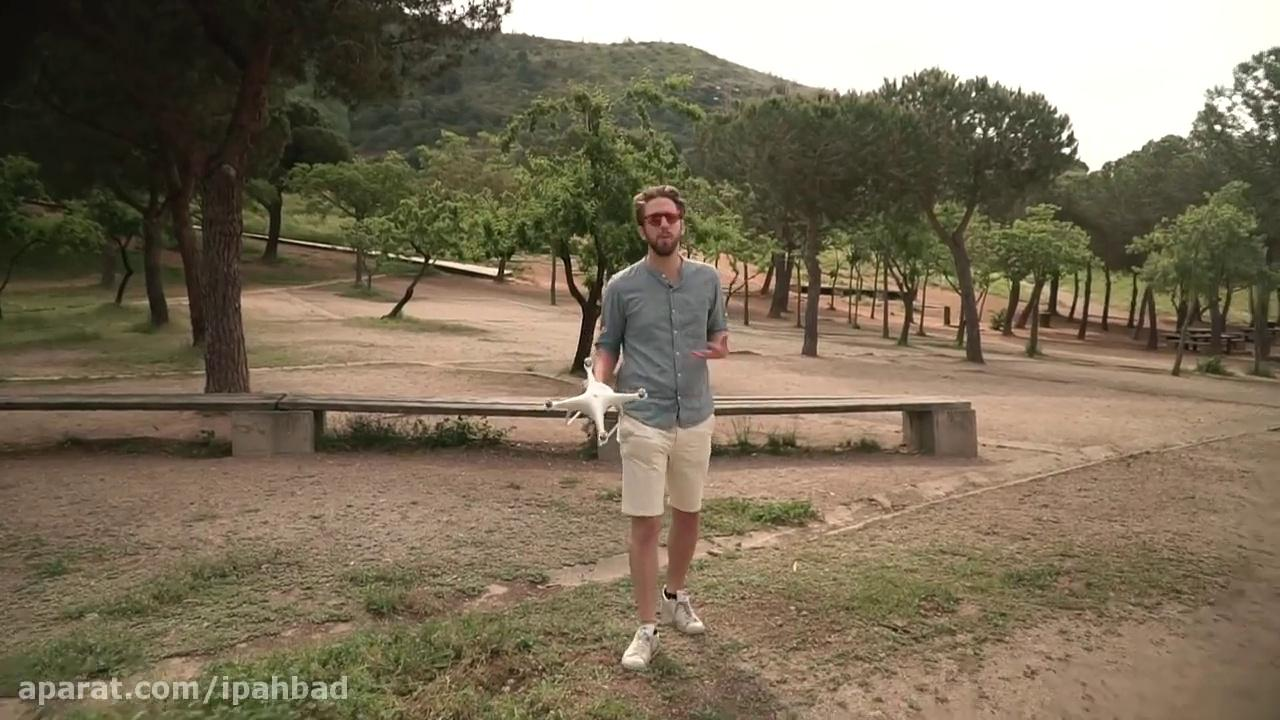drone: (541, 355, 653, 445)
